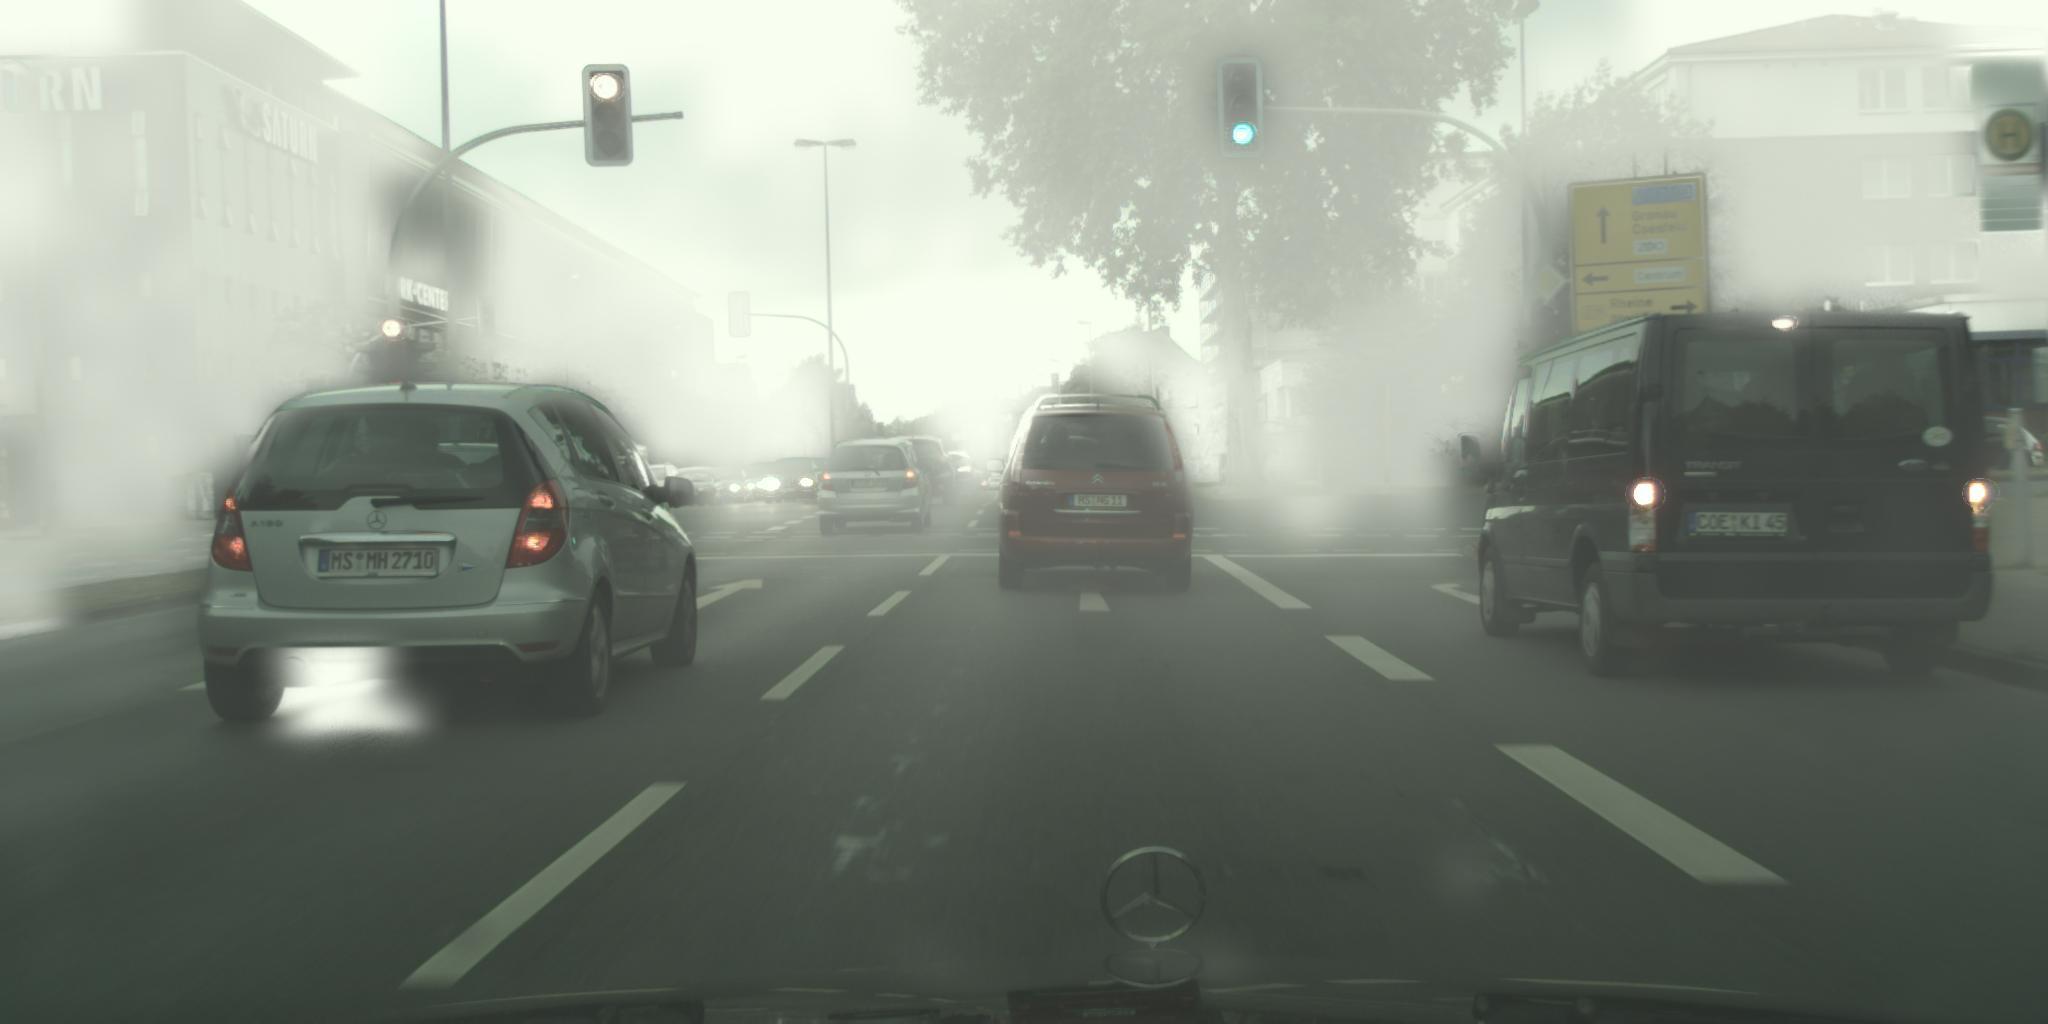car: (1459, 310, 1994, 682), (199, 381, 701, 728), (984, 394, 1202, 594), (819, 439, 936, 537), (891, 438, 957, 507), (1977, 417, 2045, 473), (764, 458, 827, 504), (640, 464, 684, 515), (673, 468, 724, 508), (940, 451, 980, 500), (709, 466, 750, 504), (734, 466, 775, 499), (798, 458, 835, 486), (748, 462, 781, 482), (970, 472, 987, 492), (985, 477, 1006, 491)
